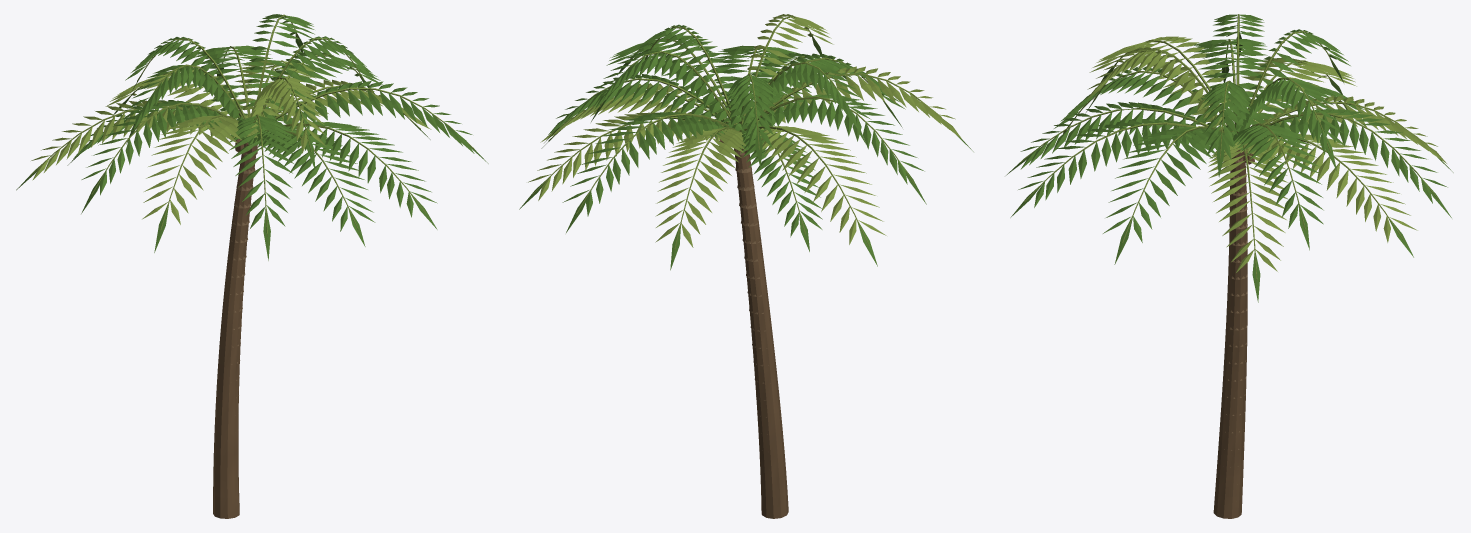
Rendered from palm.glb.
3 views of the same model, side by side, from view 1: azimuth 30°, elevation 25°; view 2: azimuth 150°, elevation 25°; view 3: azimuth 270°, elevation 25° (orthographic). The views are drawn at different scales.
Parts seen in each view (by area): view 1: palm; view 2: palm; view 3: palm.
Boxes of the visible parts, x1,y1,x2,y2 form: palm: (16,14,488,518); palm: (519,14,973,518); palm: (1006,14,1453,518).
Bounding box in the file's own units: 8.02 × 9.24 × 7.93.
